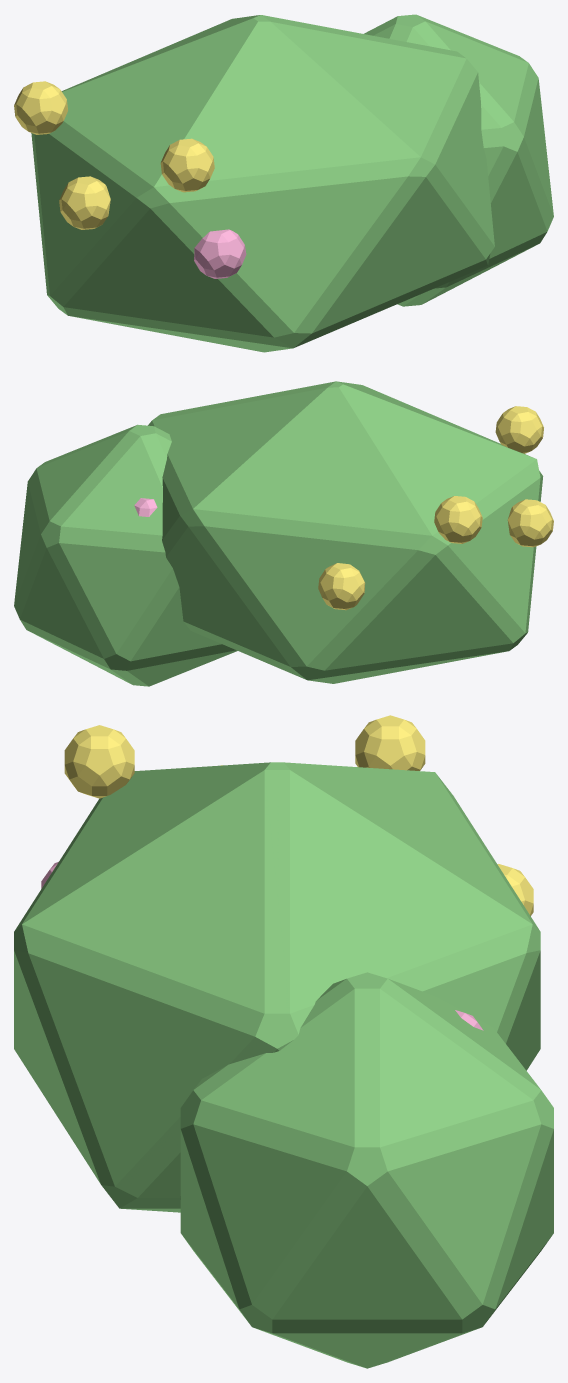
3 views of the same model, one above another, from view 1: azimuth 30°, elevation 25°; view 2: azimuth 150°, elevation 25°; view 3: azimuth 270°, elevation 25° (orthographic). The views are drawn at different scales.
Visible parts, largest first — view 1: FlowerBush; view 2: FlowerBush; view 3: FlowerBush.
Part boxes in pixels (<box>): FlowerBush: <box>14,14,553,352</box>; FlowerBush: <box>14,381,553,686</box>; FlowerBush: <box>14,715,553,1368</box>.
Bounding box in the file's own units: 0.73 × 0.4646 × 0.4799.
